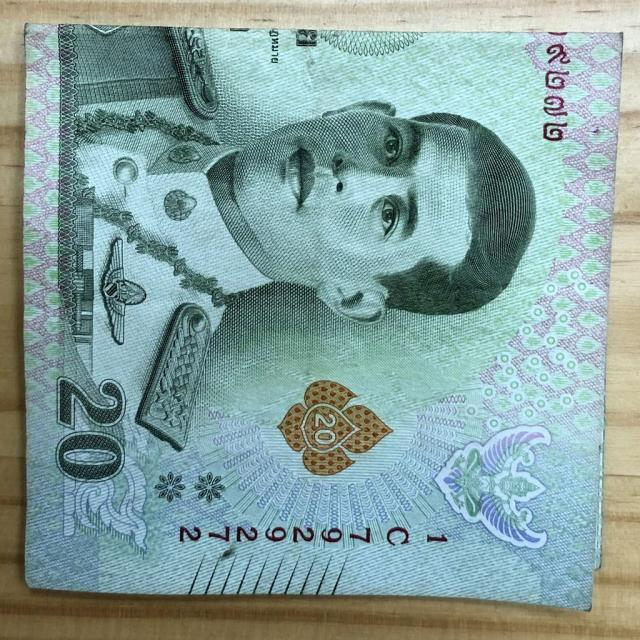THAI20: (24, 24, 622, 609)
